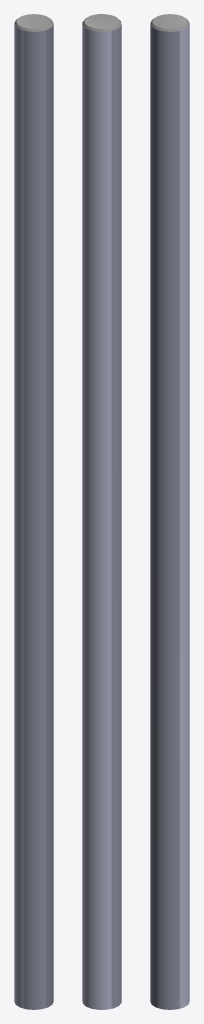
Rendered from gElement_Cyl.fbx.
The picture shows the model from 3 angles, left to right: view 1: azimuth 90°, elevation 25°; view 2: azimuth 150°, elevation 25°; view 3: azimuth 270°, elevation 25°; orthographic projection.
Parts seen in each view (by area): view 1: gElement_Cyl; view 2: gElement_Cyl; view 3: gElement_Cyl.
Part boxes in pixels (<box>): gElement_Cyl: <box>14,14,53,1009</box>; gElement_Cyl: <box>82,14,121,1009</box>; gElement_Cyl: <box>150,14,189,1009</box>.
Size of the model in its own units: 101 by 2760 by 101.
